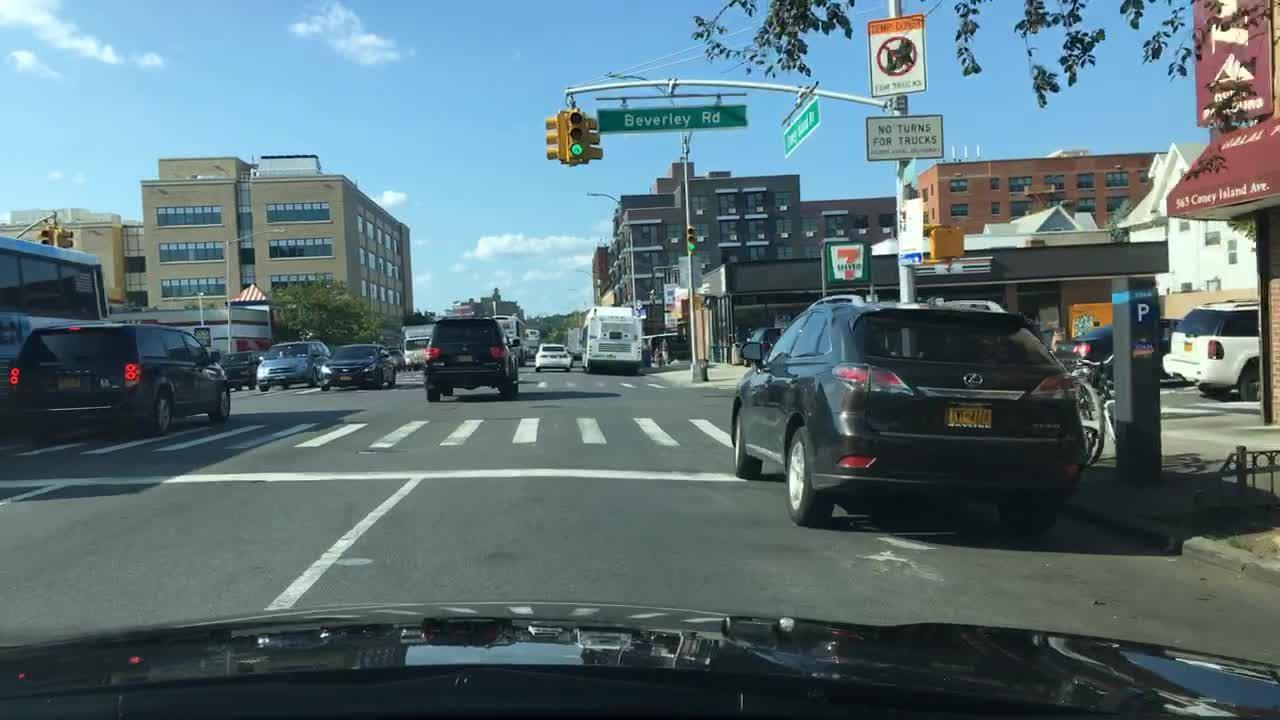lexus: (954, 363, 992, 397)
